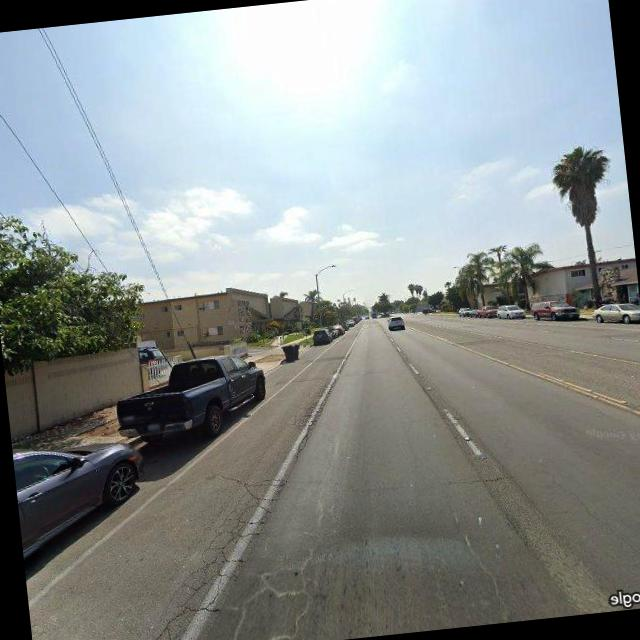crack: (128, 459, 342, 640)
